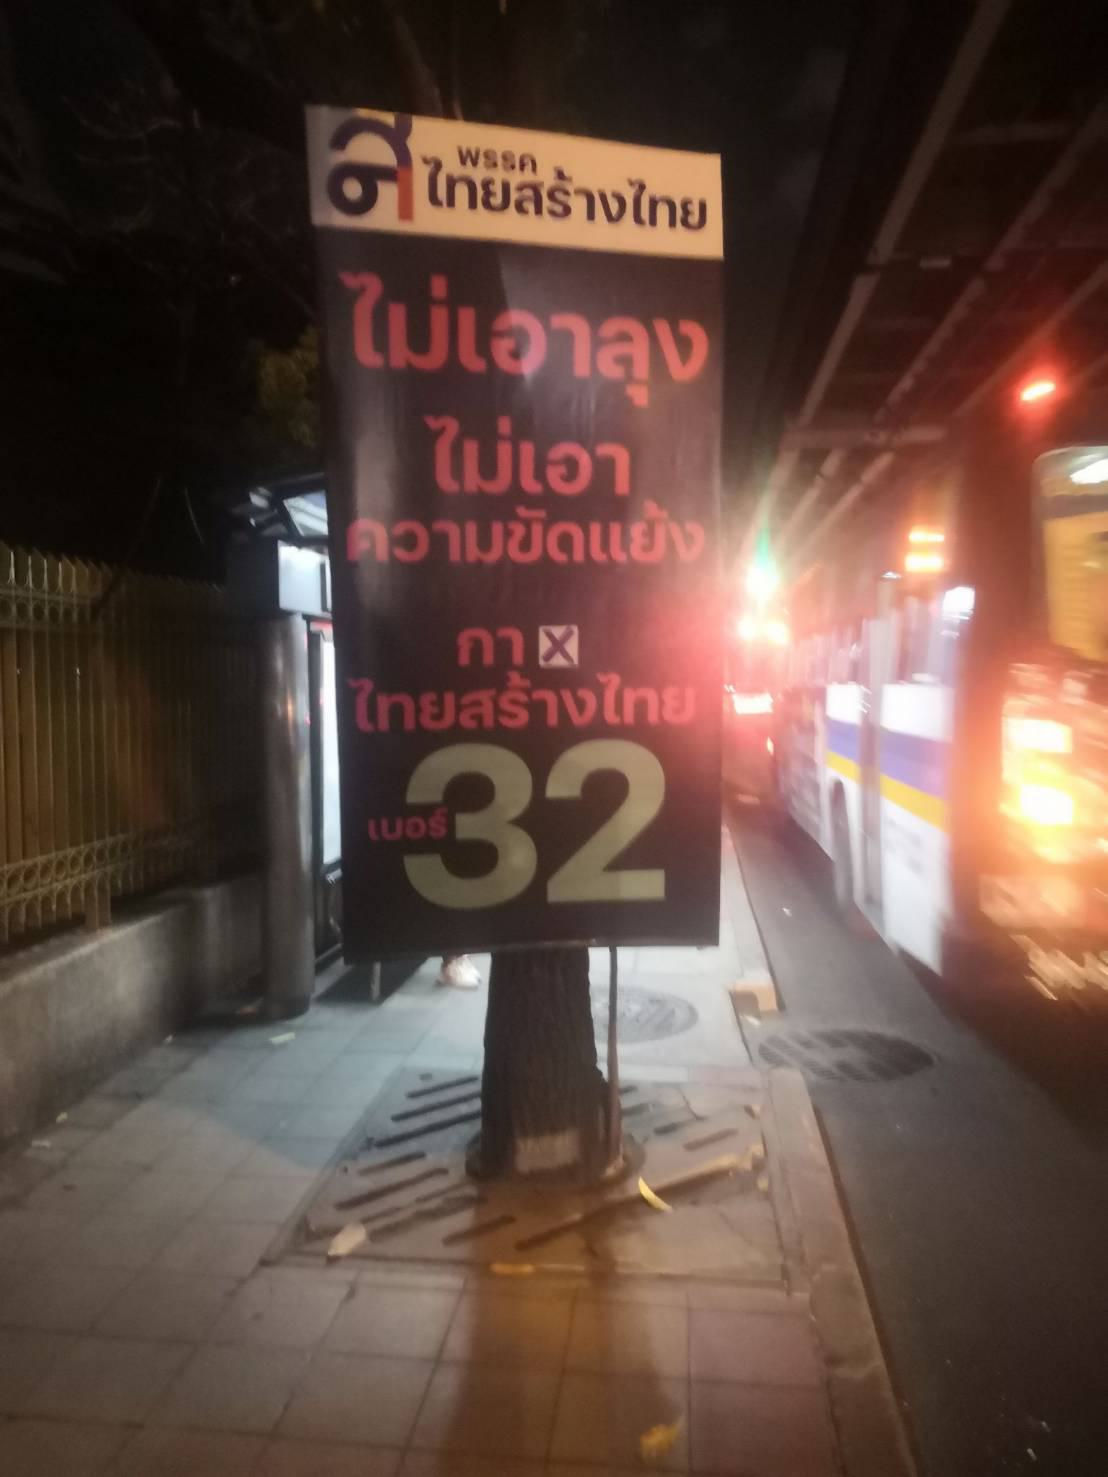Banner: (303, 99, 732, 952)
